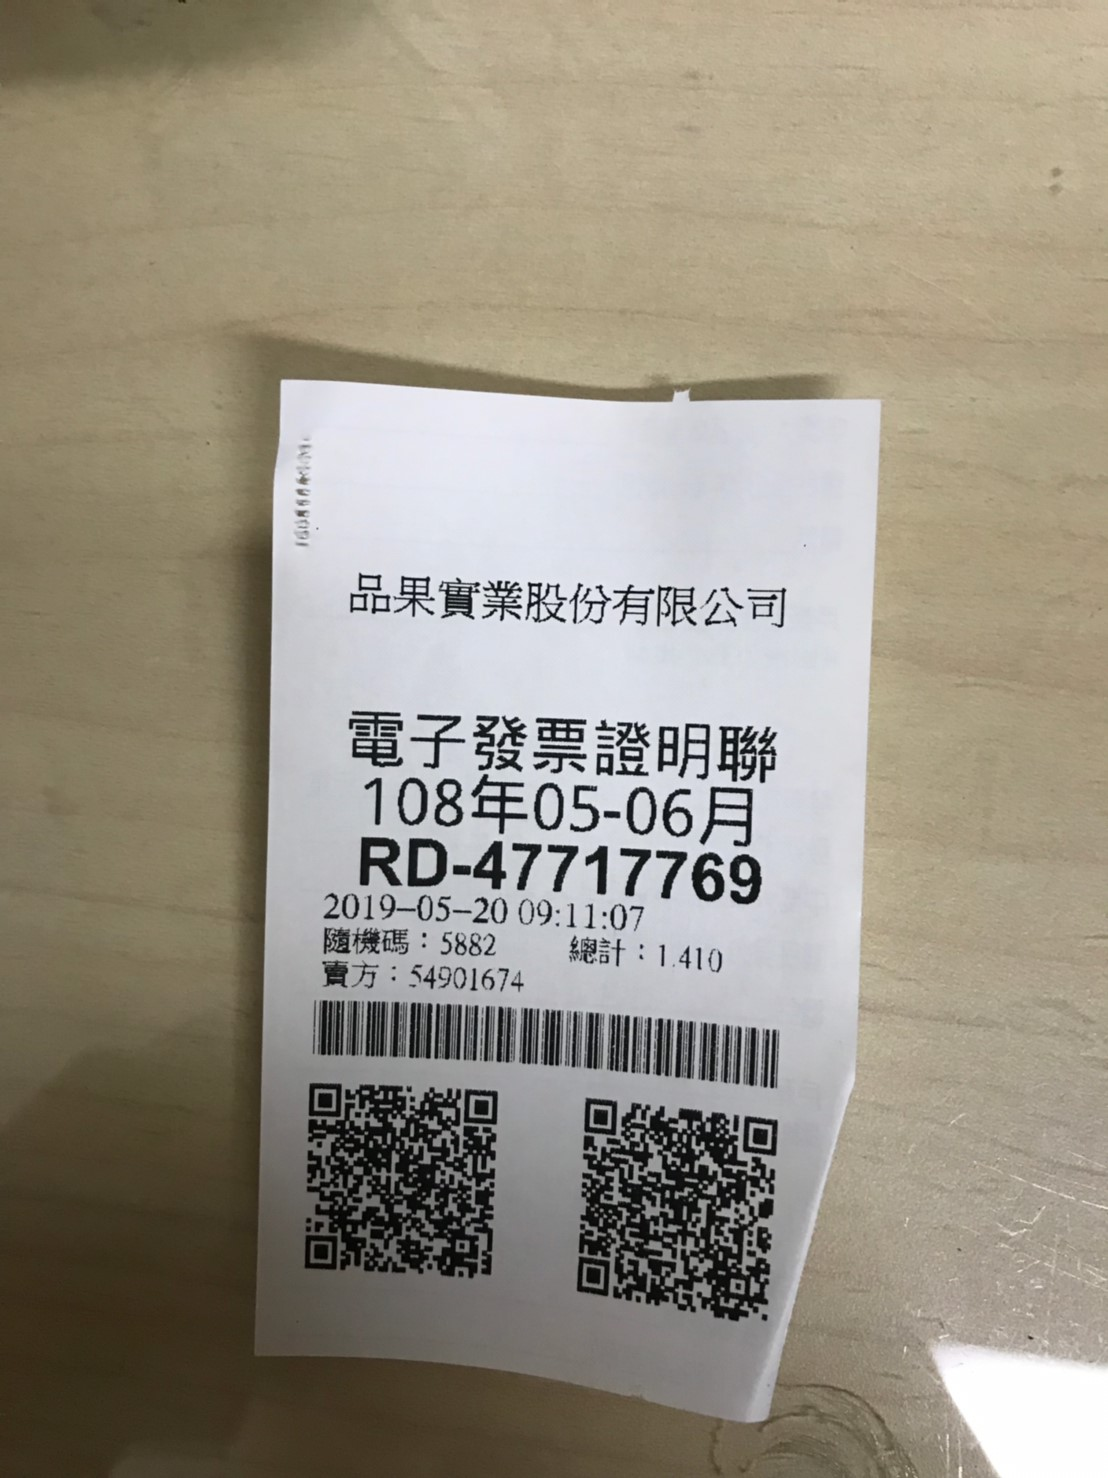Date_New: (365, 770, 759, 853)
Number_New: (475, 841, 766, 905)
